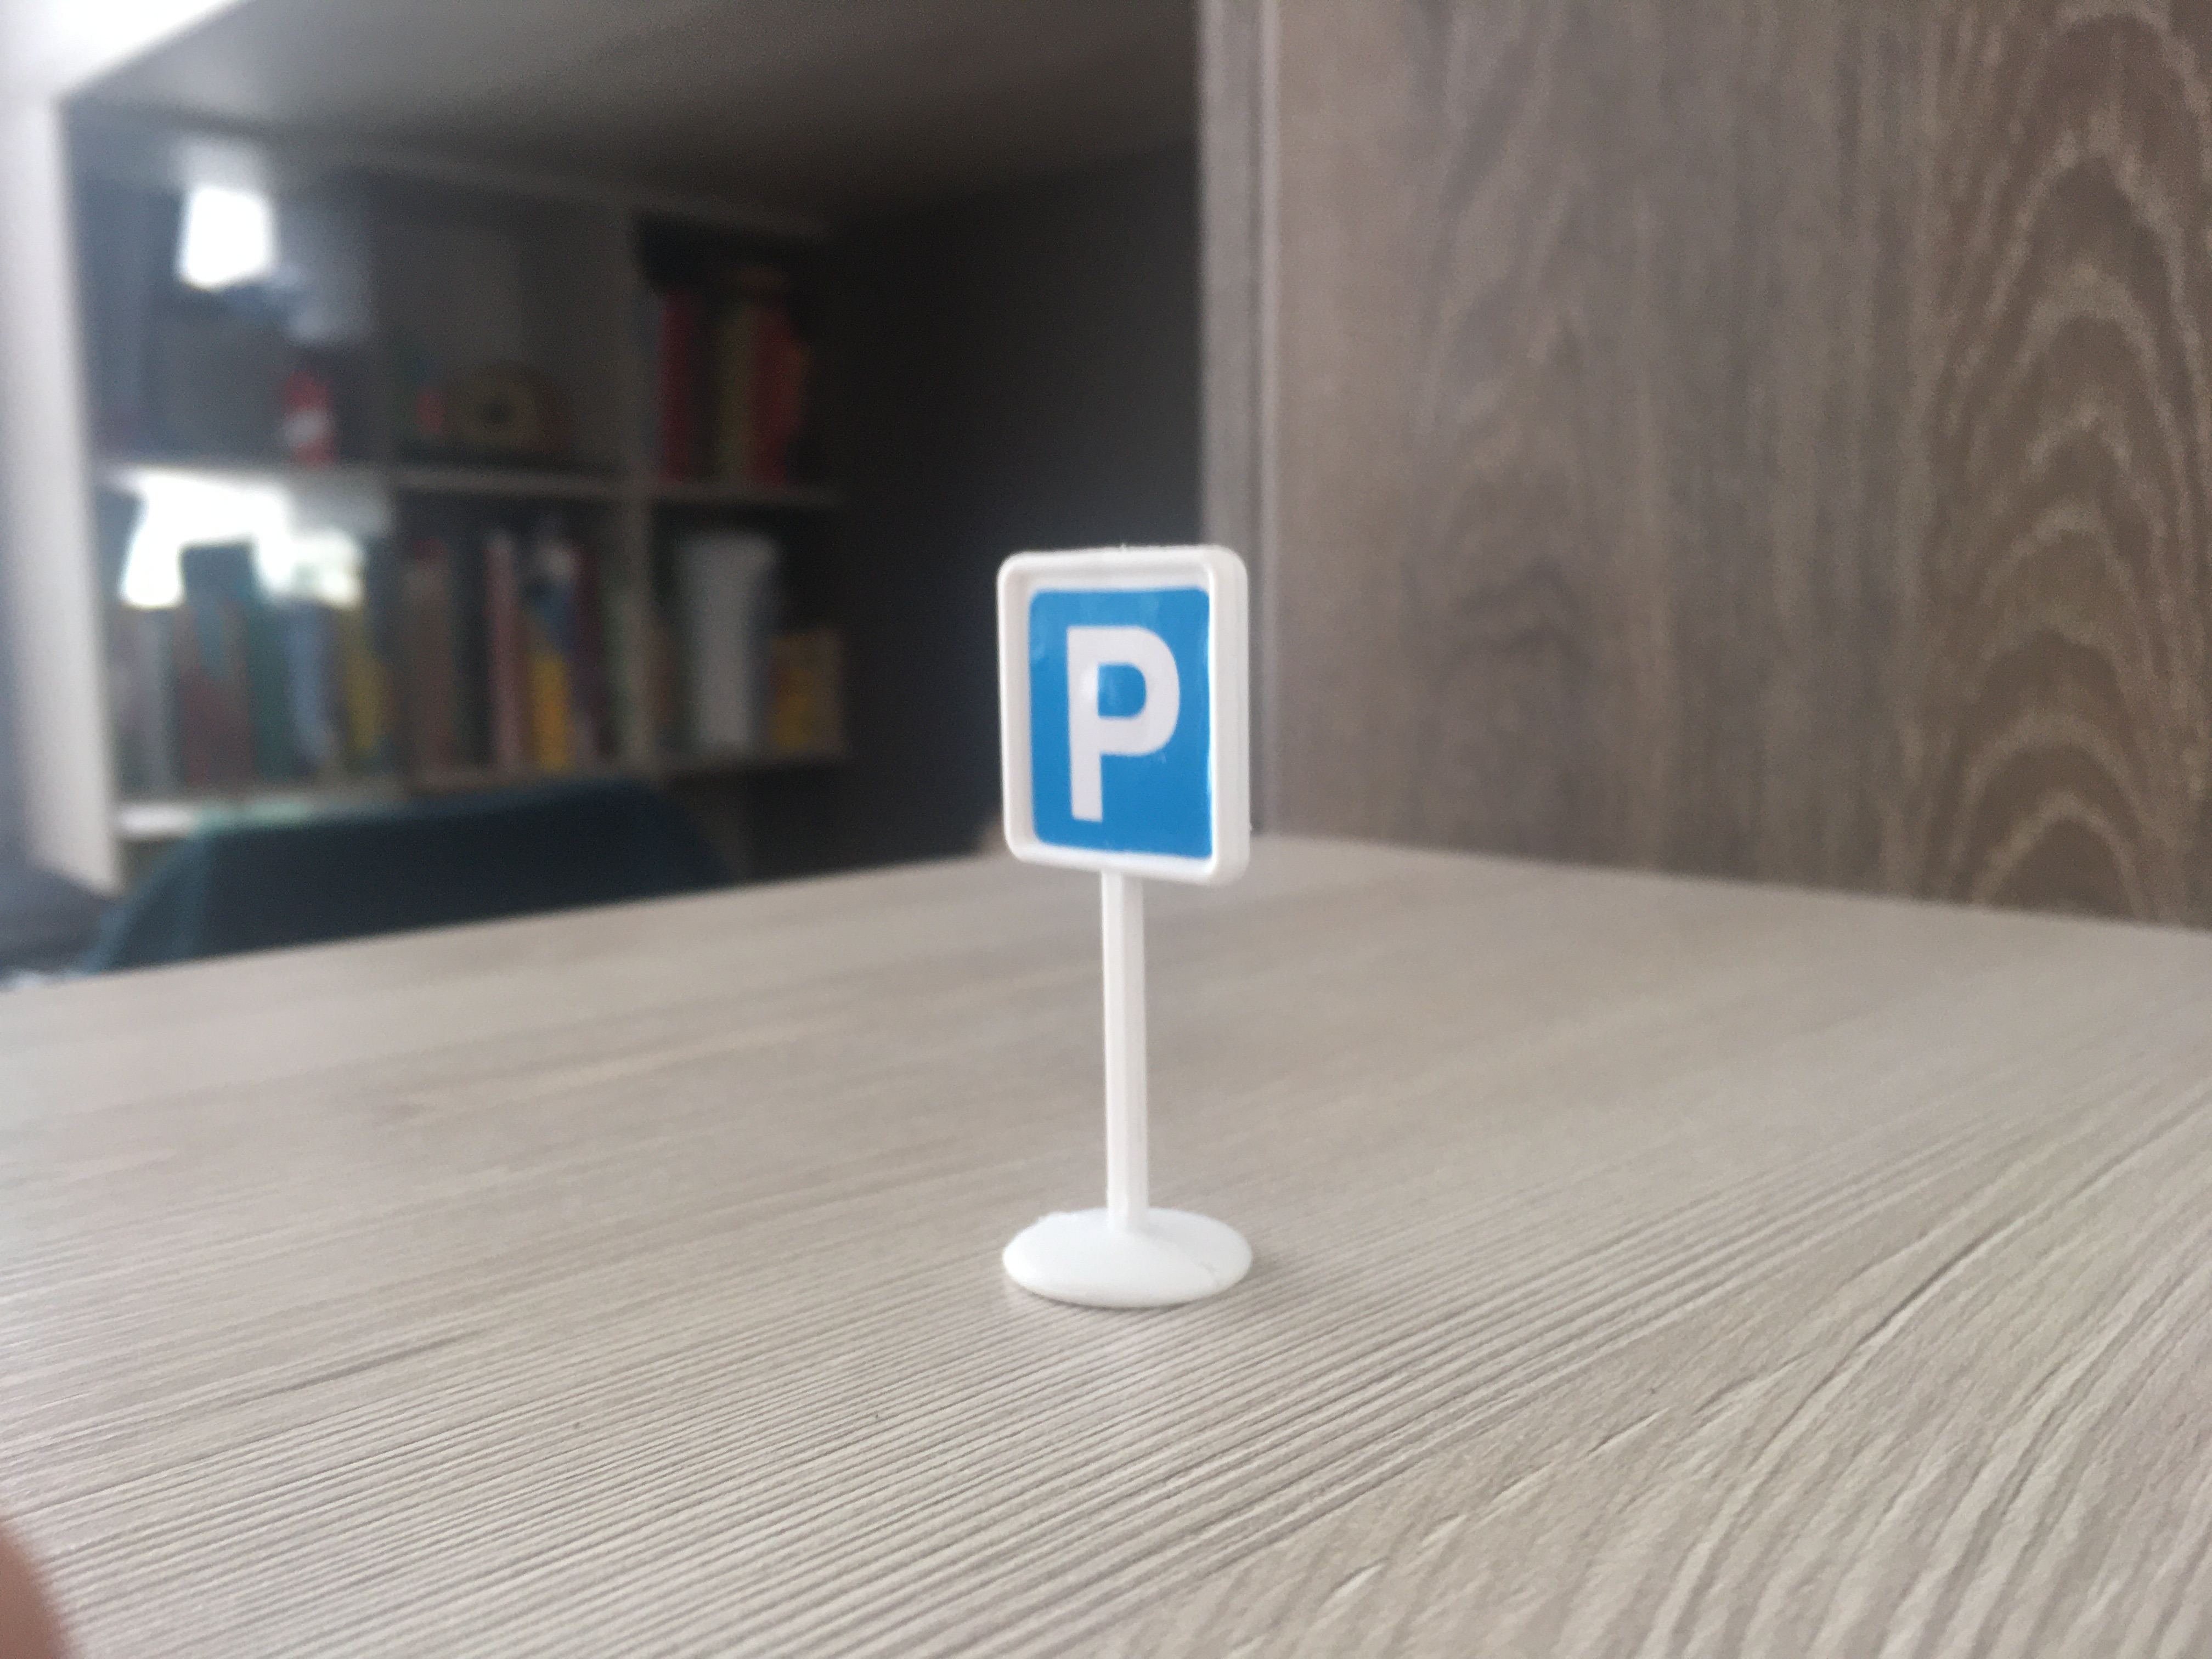parking: (989, 545, 1263, 894)
